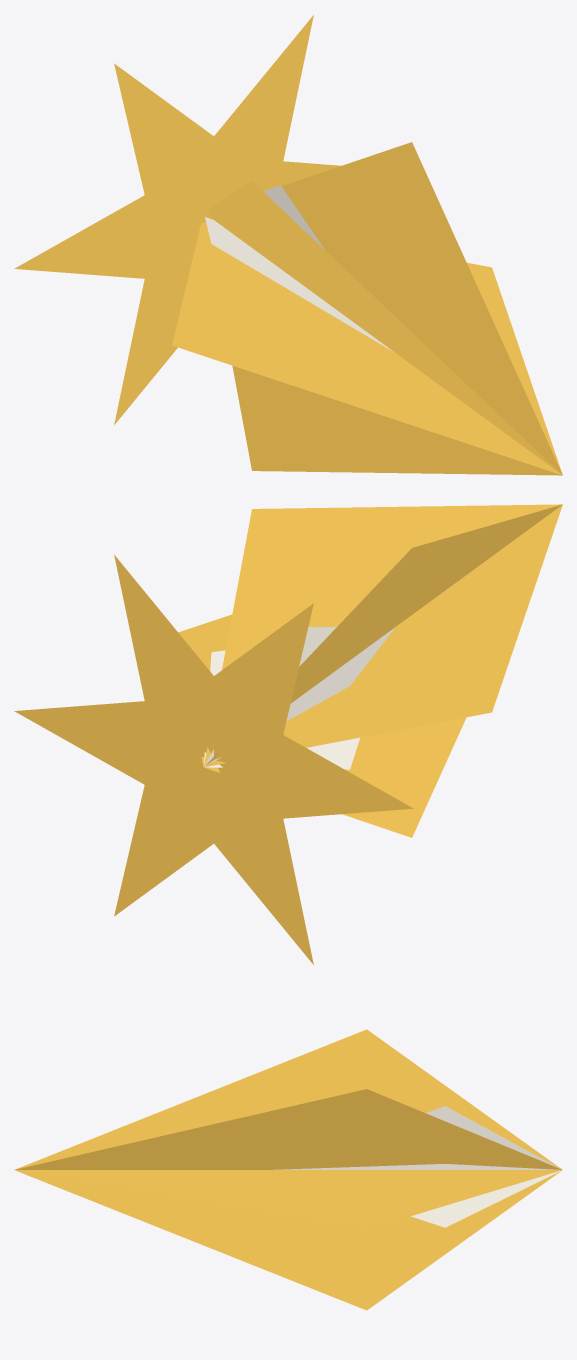
File: muzzle_flash.glb
3 renders of one model, top to bottom at view 1: azimuth 30°, elevation 25°; view 2: azimuth 150°, elevation 25°; view 3: azimuth 270°, elevation 25°, orthographic. The views are drawn at different scales.
Visible parts, largest first — view 1: muzzle_flash_mesh; view 2: muzzle_flash_mesh; view 3: muzzle_flash_mesh.
Part boxes in pixels (x1,y1,x2,y2): muzzle_flash_mesh: (14, 15, 562, 475); muzzle_flash_mesh: (14, 504, 562, 964); muzzle_flash_mesh: (14, 1029, 562, 1310).
Size of the model in its own units: 0.09 by 0.0779 by 0.14.
1 material, 1 textured.
